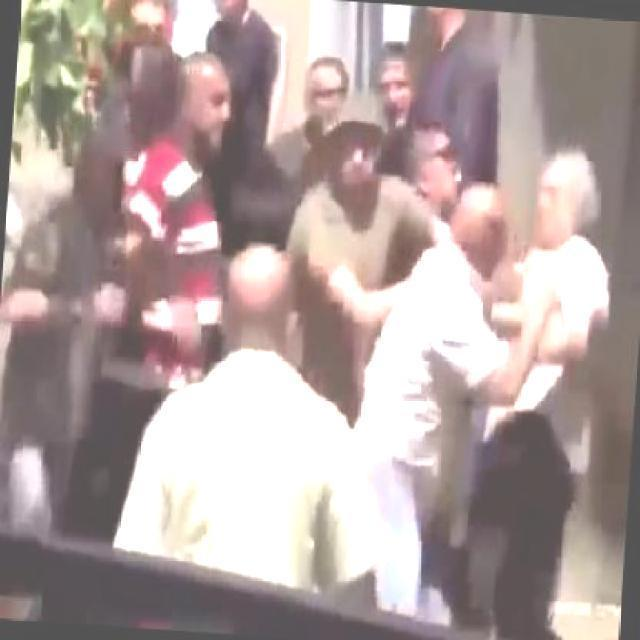fight: (284, 94, 590, 374)
